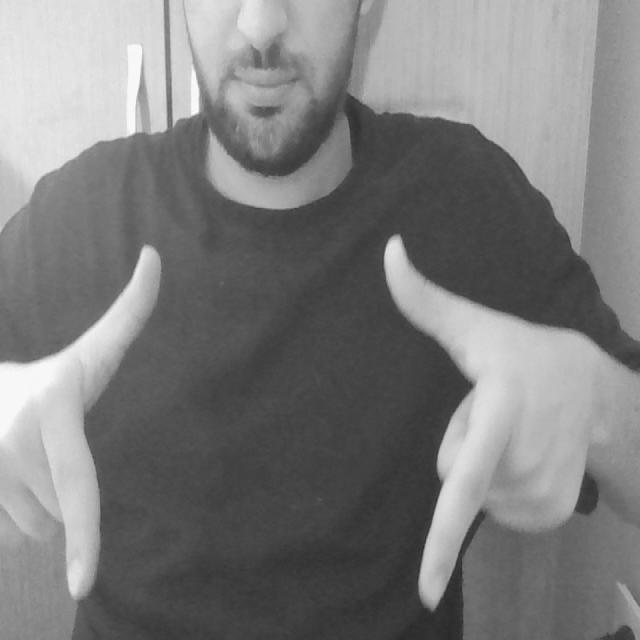Nerede: (19, 221, 529, 616)
